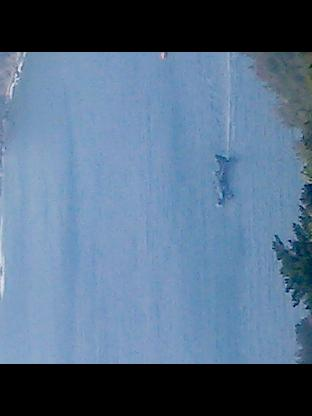Tu95: (210, 154, 232, 209)
